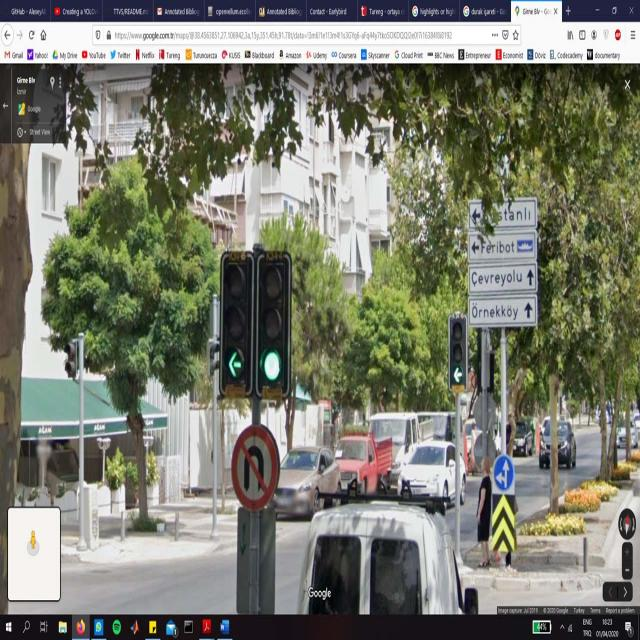ilerisol: (492, 455, 516, 493)
yesil: (261, 253, 287, 395)
